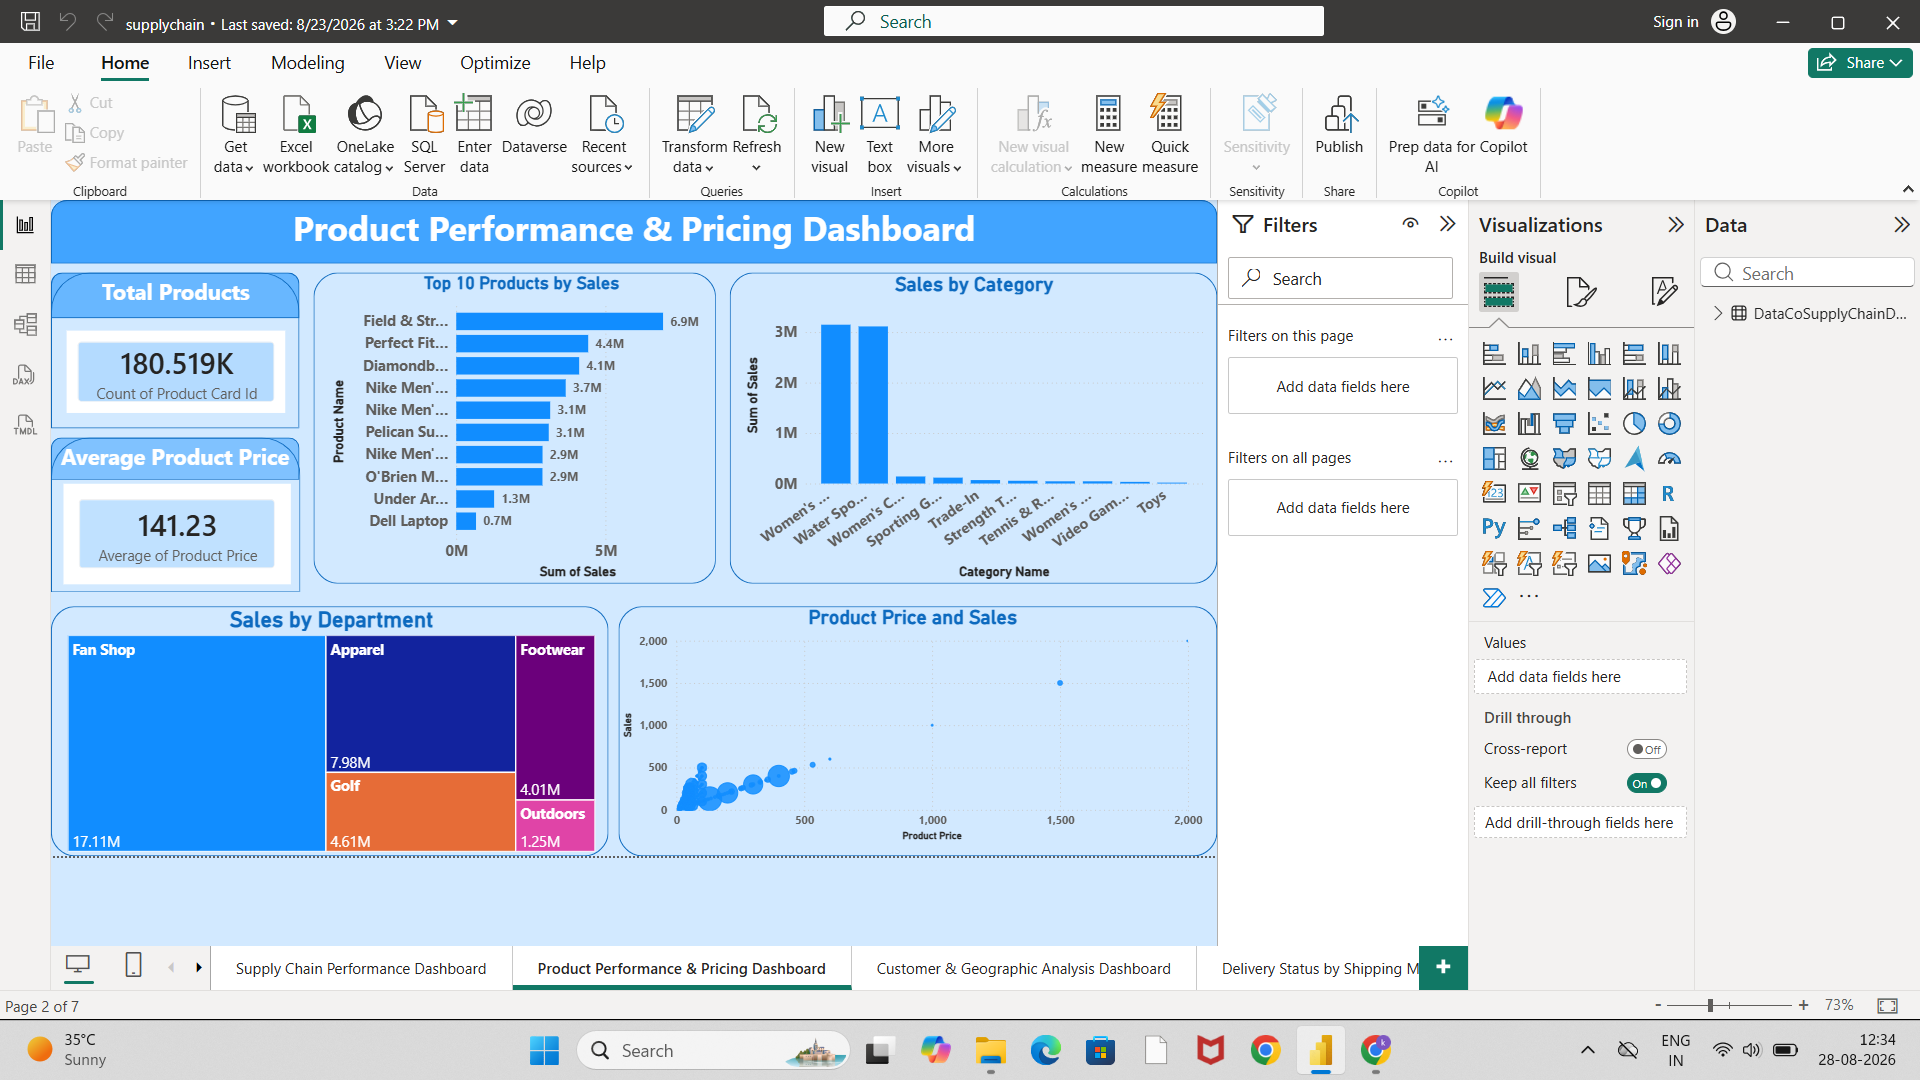

The page's visual inventory and layout, read from the dashboard file:
{"tool":"powerbi","page":{"name":"Product Performance & Pricing Dashboard","canvas":[1280,720],"ordinal":1},"visuals":[{"type":"shape","box":[0,0,1280.3,70],"z":0},{"type":"textbox","box":[0,0,1280.3,70],"z":1000},{"type":"shape","box":[0,79.5,272.7,50.1],"z":2000},{"type":"shape","box":[0,79.5,272.7,171.2],"z":3000},{"type":"textbox","box":[0,79.5,273.9,50.1],"z":4000},{"type":"cardVisual","fields":{"Data":["CountNonNull(DataCoSupplyChainDataset.Product Card Id)"]},"box":[12.2,138.2,250.7,100.3],"z":5000},{"type":"shape","box":[0,260.5,272.7,46.5],"z":6000},{"type":"shape","box":[0,260.5,273.9,170],"z":7000},{"type":"textbox","box":[0,260.5,272.7,46.5],"z":8000},{"type":"cardVisual","fields":{"Data":["Avg(DataCoSupplyChainDataset.Product Price)"]},"box":[13.5,311.8,249.5,110.1],"z":9000},{"type":"treemap","title":"Sales by Department","fields":{"Group":["DataCoSupplyChainDataset.Department Name"],"Values":["Sum(DataCoSupplyChainDataset.Sales)"]},"box":[13.7,446,588.7,274.4],"z":10000},{"type":"shape","box":[0,446,612,274.4],"z":11000},{"type":"shape","box":[288.2,79.6,441.9,341.7],"z":12000},{"type":"clusteredBarChart","title":"Top 10 Products by Sales","fields":{"Category":["DataCoSupplyChainDataset.Product Name"],"Y":["Sum(DataCoSupplyChainDataset.Sales)"]},"box":[303.3,79.6,426.8,341.7],"z":13000},{"type":"shape","box":[745.1,79.6,535.2,341.7],"z":14000},{"type":"clusteredColumnChart","title":"Sales by Category","fields":{"Category":["DataCoSupplyChainDataset.Category Name"],"Y":["Sum(DataCoSupplyChainDataset.Sales)"]},"box":[757.5,79.6,511.8,341.7],"z":15000},{"type":"shape","box":[623,446,657.3,274.4],"z":16000},{"type":"scatterChart","title":"Product Price and Sales","fields":{"Size":["CountNonNull(DataCoSupplyChainDataset.Order Id)"],"X":["DataCoSupplyChainDataset.Product Price"],"Y":["DataCoSupplyChainDataset.Sales"]},"box":[623,446,646.3,263.5],"z":17000}]}

Visuals, with their boxes on the page's 1280x720 design canvas (x1, y1, x2, y2). These are canvas units, not pixel positions in the 1920x1080 screenshot, which may show the page scaled, cropped or inside an application window:
shape: box(0, 0, 1280, 70)
textbox: box(0, 0, 1280, 70)
shape: box(0, 80, 273, 130)
shape: box(0, 80, 273, 251)
textbox: box(0, 80, 274, 130)
cardVisual - CountNonNull(DataCoSupplyChainDataset.Product Card Id): box(12, 138, 263, 238)
shape: box(0, 260, 273, 307)
shape: box(0, 260, 274, 430)
textbox: box(0, 260, 273, 307)
cardVisual - Avg(DataCoSupplyChainDataset.Product Price): box(14, 312, 263, 422)
"Sales by Department" treemap: box(14, 446, 602, 720)
shape: box(0, 446, 612, 720)
shape: box(288, 80, 730, 421)
"Top 10 Products by Sales" clusteredBarChart: box(303, 80, 730, 421)
shape: box(745, 80, 1280, 421)
"Sales by Category" clusteredColumnChart: box(758, 80, 1269, 421)
shape: box(623, 446, 1280, 720)
"Product Price and Sales" scatterChart: box(623, 446, 1269, 710)
